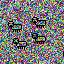sheep: (31, 16, 47, 29), (31, 32, 47, 45), (12, 37, 27, 50), (7, 20, 22, 32)
